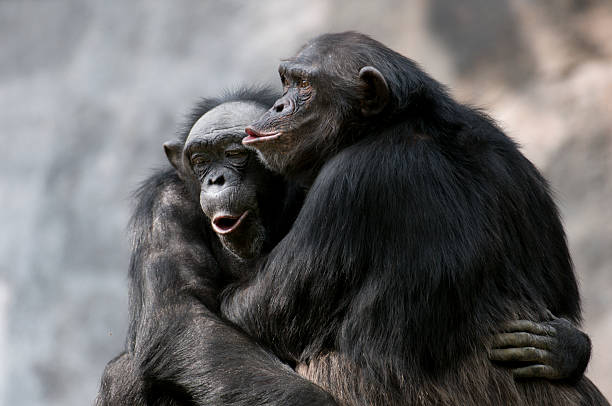chimpanzee: (228, 17, 453, 200), (138, 68, 302, 280)
